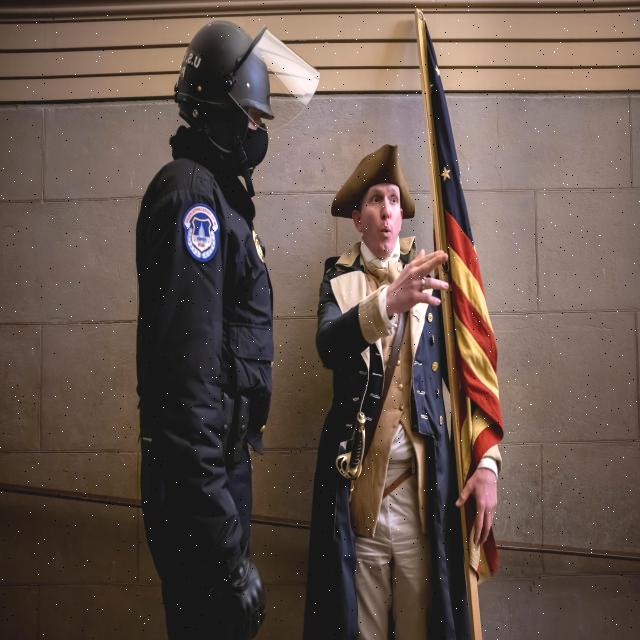police: (109, 18, 328, 640)
